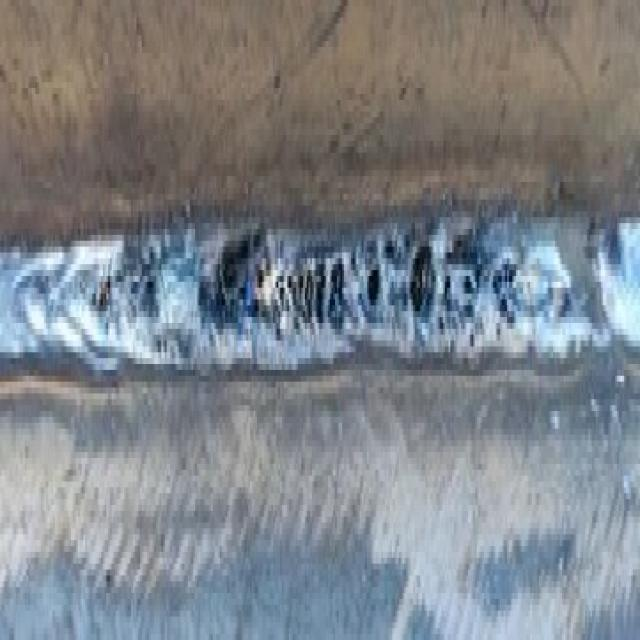Bad Weld: (1, 194, 638, 376)
Defect: (210, 235, 520, 329), (87, 246, 156, 318)
